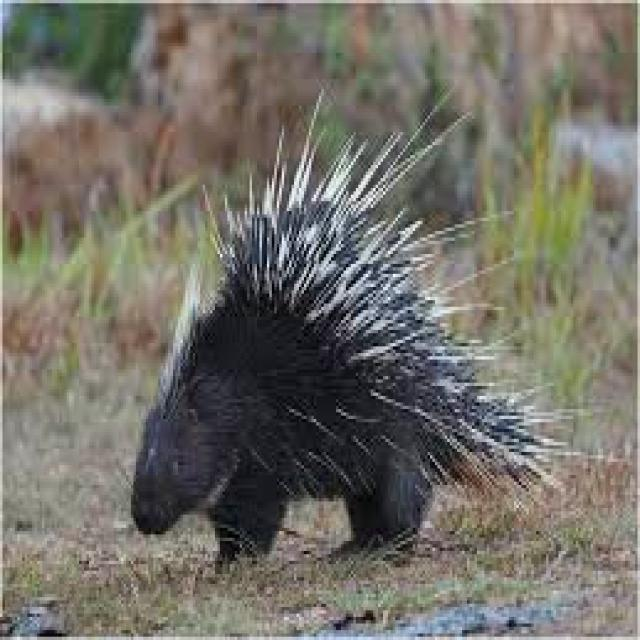porcupine: (131, 89, 556, 561)
